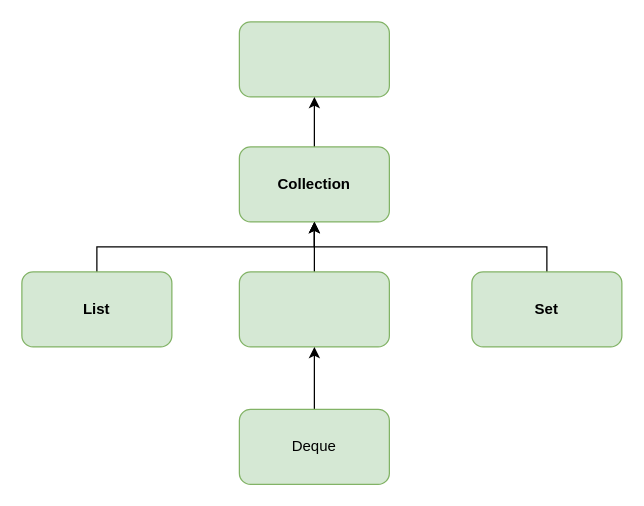
The diagram is 644 pixels wide and 506 high, and some of its shapes have lost their labels. The shapes that lost their labels are listed below. From the top down, each one's box as (x1, y1, x2, y2) in pixels, then its label:
(238, 21, 389, 97): Iterable
(238, 271, 389, 347): Queue
